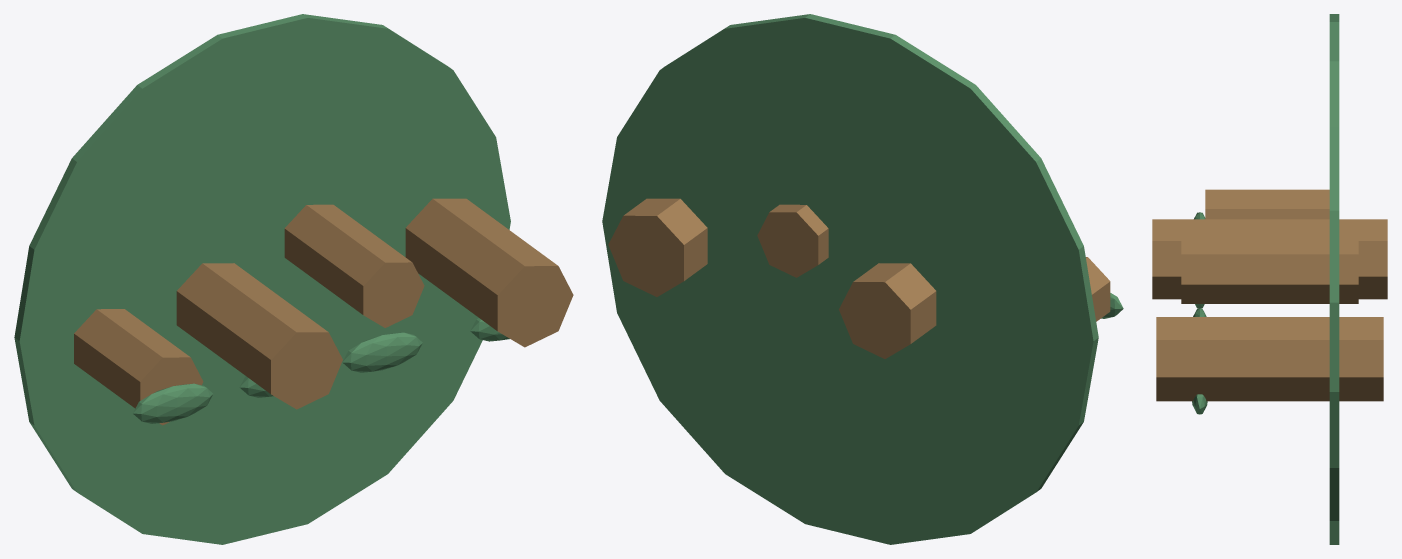
Rendered from 02_local_prop_cluster.glb.
3 views of the same model, side by side, from view 1: azimuth 30°, elevation 25°; view 2: azimuth 150°, elevation 25°; view 3: azimuth 270°, elevation 25° (orthographic). The views are drawn at different scales.
Parts seen in each view (by area): view 1: scatter_base, root_stump_3, root_stump_1, root_stump_2, root_stump_0, moss_2, moss_0; view 2: scatter_base, root_stump_3, root_stump_1, root_stump_2, root_stump_0; view 3: root_stump_3, root_stump_2, root_stump_1, scatter_base, root_stump_0.
Boxes of the visible parts, bbox=[...] form: scatter_base: bbox=[14, 14, 510, 544]; root_stump_3: bbox=[405, 198, 573, 347]; root_stump_1: bbox=[176, 263, 342, 409]; root_stump_2: bbox=[284, 204, 424, 327]; root_stump_0: bbox=[74, 309, 203, 425]; moss_2: bbox=[342, 332, 422, 372]; moss_0: bbox=[133, 383, 212, 423]; scatter_base: bbox=[602, 14, 1098, 544]; root_stump_3: bbox=[608, 198, 707, 296]; root_stump_1: bbox=[839, 263, 936, 358]; root_stump_2: bbox=[757, 204, 828, 277]; root_stump_0: bbox=[1085, 257, 1110, 321]; root_stump_3: bbox=[1156, 317, 1383, 401]; root_stump_2: bbox=[1181, 236, 1358, 303]; root_stump_1: bbox=[1152, 219, 1387, 299]; scatter_base: bbox=[1329, 14, 1339, 544]; root_stump_0: bbox=[1205, 189, 1329, 219].
Bounding box in the file's own units: 1.9 × 1.87 × 0.8399.
